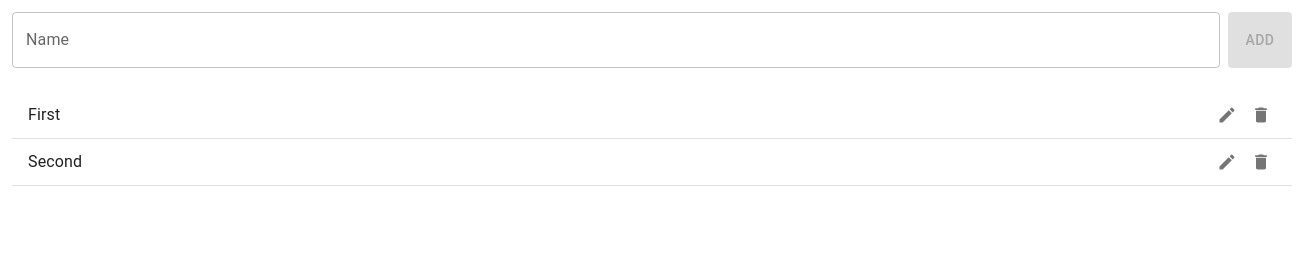
Test: EditableEntityList › supports editing cancel/save flows and delete feedback
Click the button named "edit second". click: {"x": 1227, "y": 162}
box: [1212,147,1242,177]
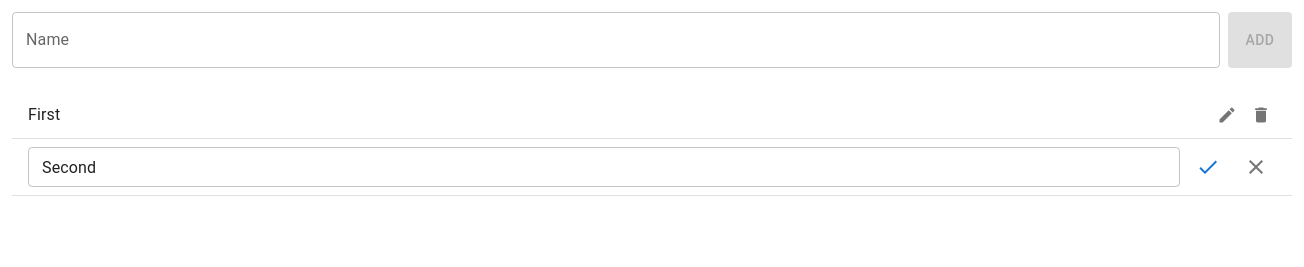
Replace the text in the field showing "Second" with "Second Updated". click: {"x": 604, "y": 167}
box: [28,147,1180,187]
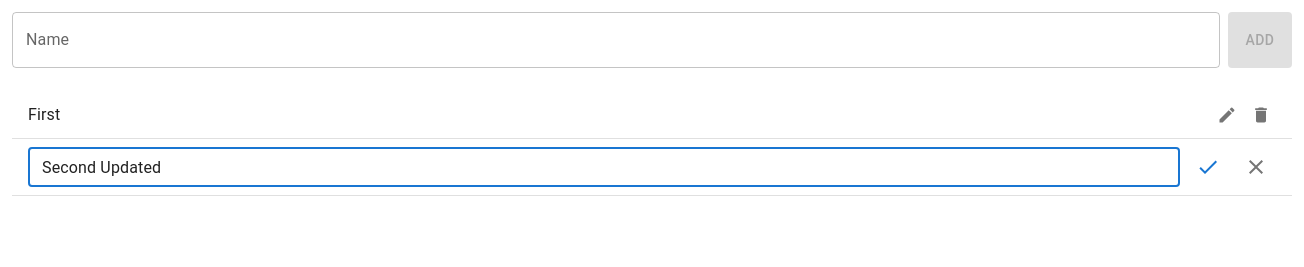
Click the button named "save item". click: {"x": 1208, "y": 167}
box: [1188,147,1228,187]
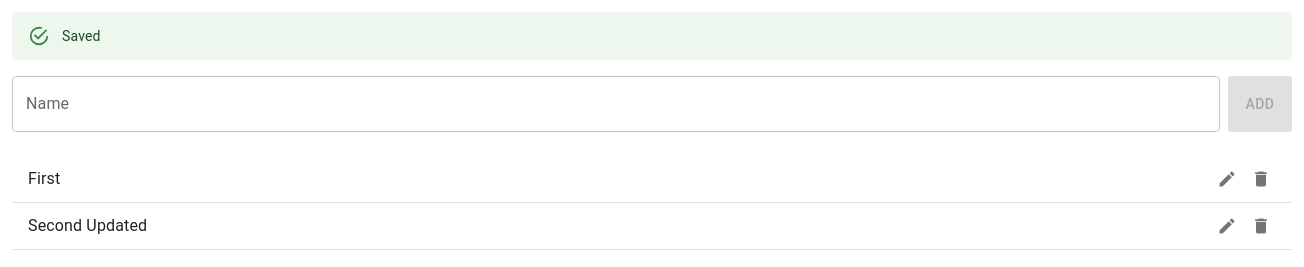
Click the button named "delete second updated". click: {"x": 1261, "y": 226}
box: [1246,211,1276,241]
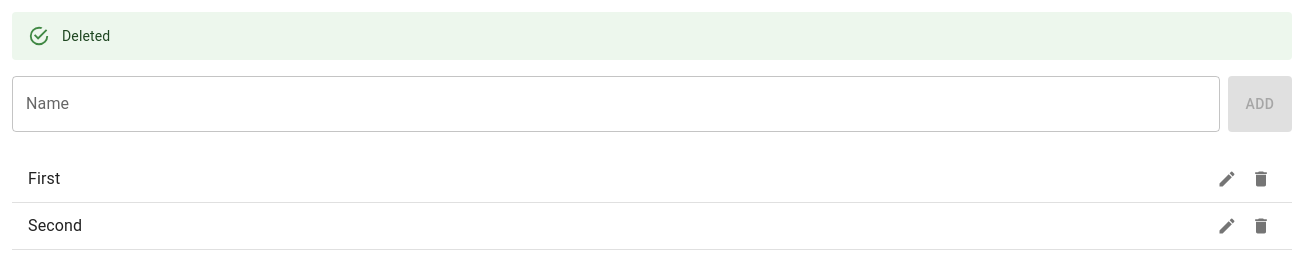
Check: the text "Deleted" is shown, box [62,28,110,44]
